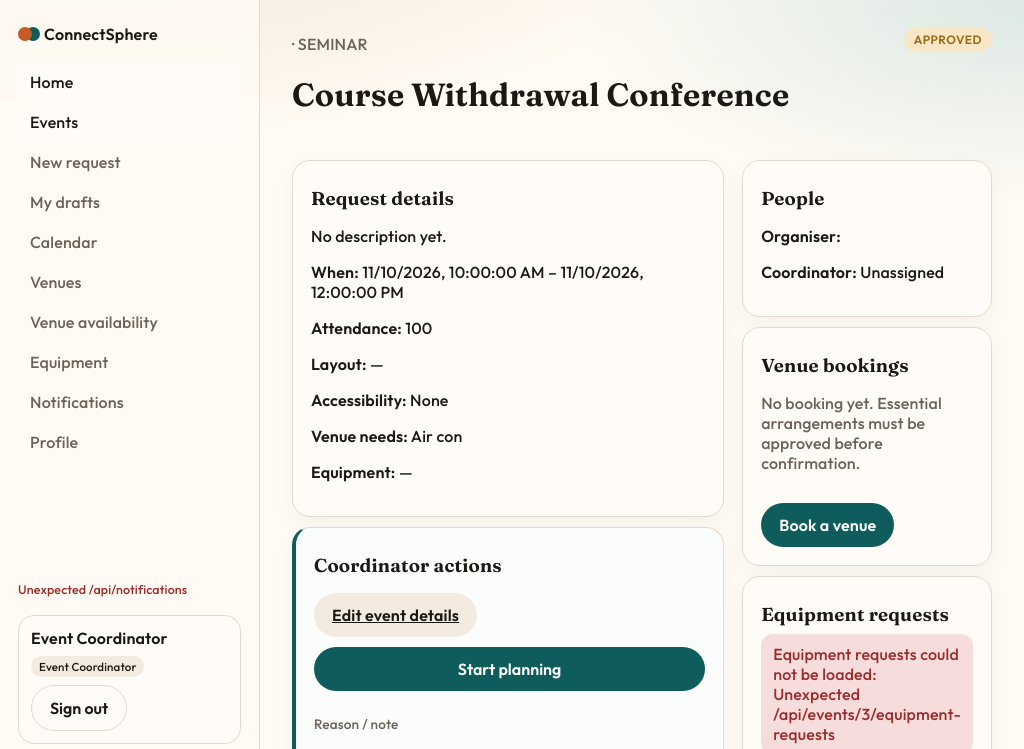
it: EventDetail SCRUM-17 & Base tests › opens the event-specific booking page from an assigned coordinator APPROVED event
This screenshot has width=1024, height=749.
Step 1. Click the link "Book a venue" → coordinates (828, 525), box [761,503,894,547]
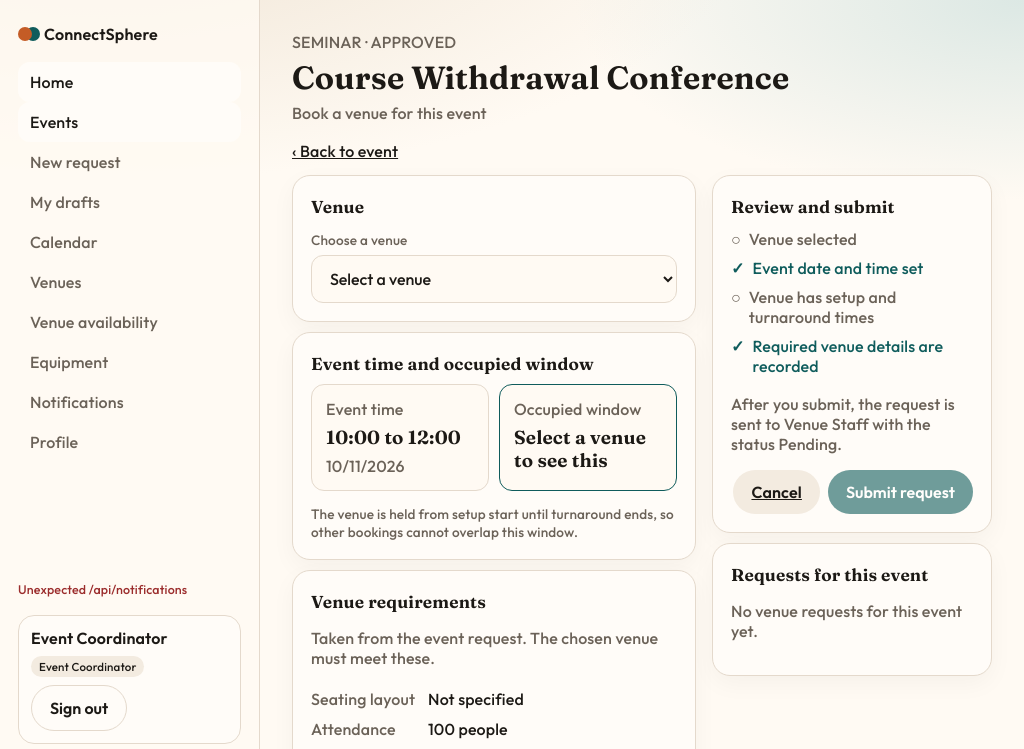
Expected: the heading "Course Withdrawal Conference" is shown, [292,58,789,97]
Expected: the text "Book a venue for this event" is shown, [292,103,487,123]
